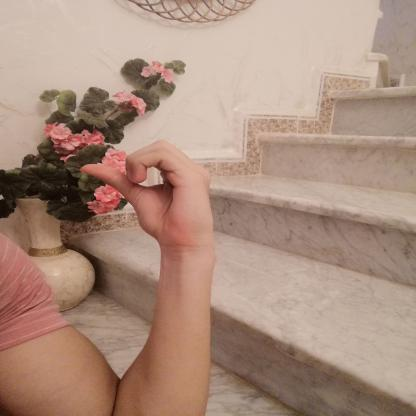WAW: (67, 133, 223, 252)
